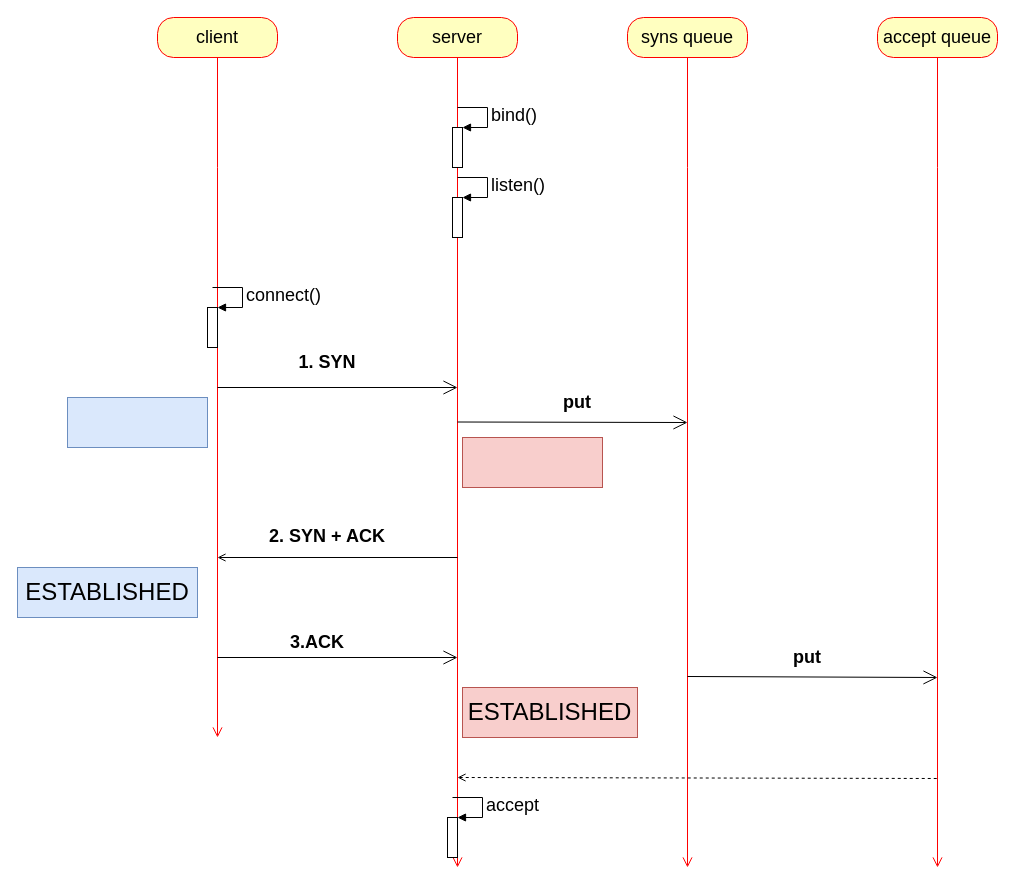
Some shapes in this 1015 by 895 pixel diagram are drawn without their labels. The shapes that lost their labels are listed below. From the top down, each one's box as (x1, y1, x2, y2) in pixels, then its label:
(66, 396, 208, 448): SYN_SEND
(462, 436, 602, 488): SYN_RCVD
